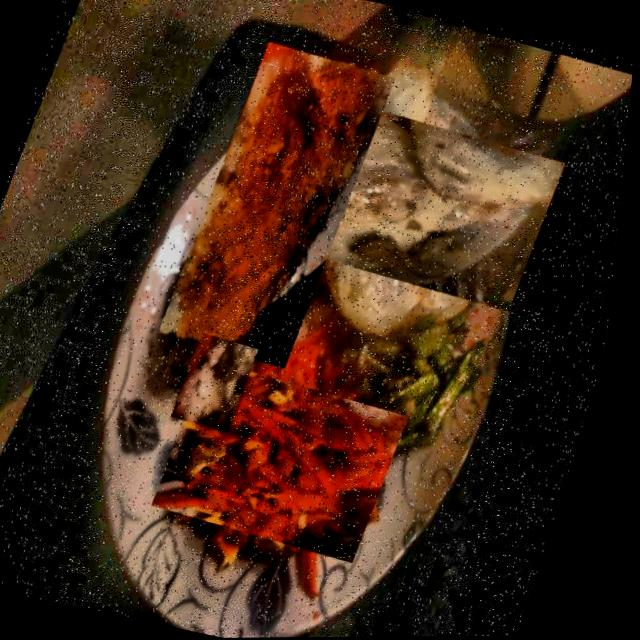Food: (158, 35, 402, 373), (292, 79, 561, 331), (163, 343, 413, 577), (174, 330, 267, 435)
